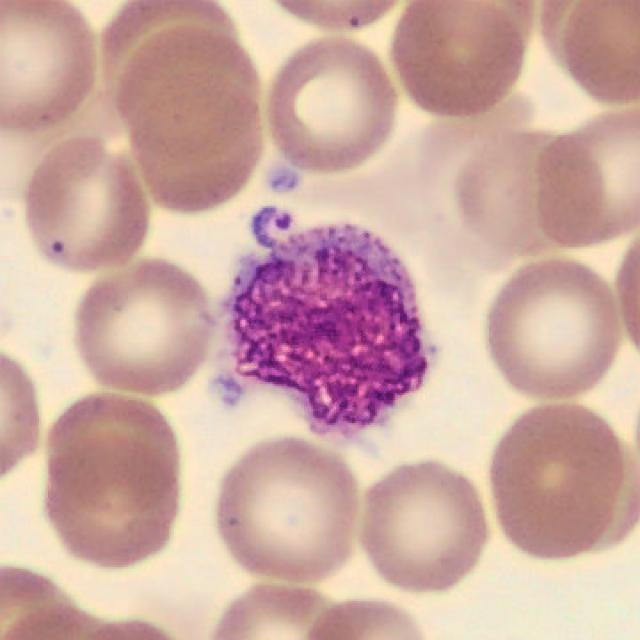Monocito: (233, 224, 427, 428)
